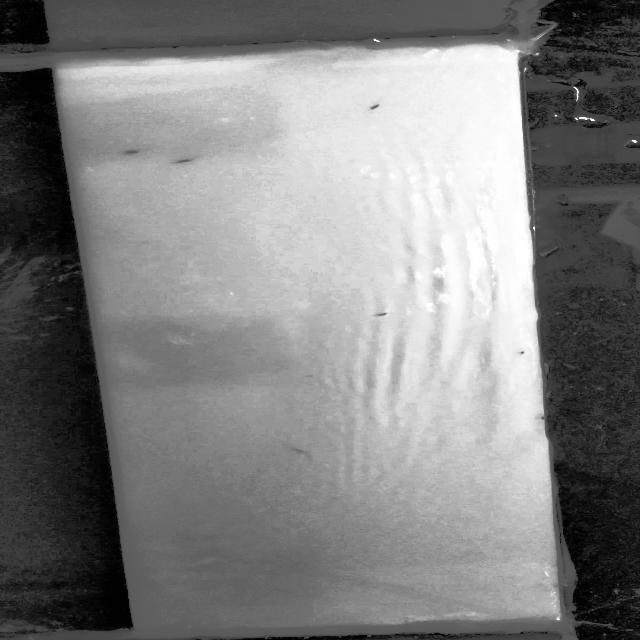shrimp: (113, 147, 154, 158), (287, 445, 315, 459), (171, 157, 210, 167), (371, 307, 395, 321), (364, 102, 388, 112), (510, 348, 531, 358)
